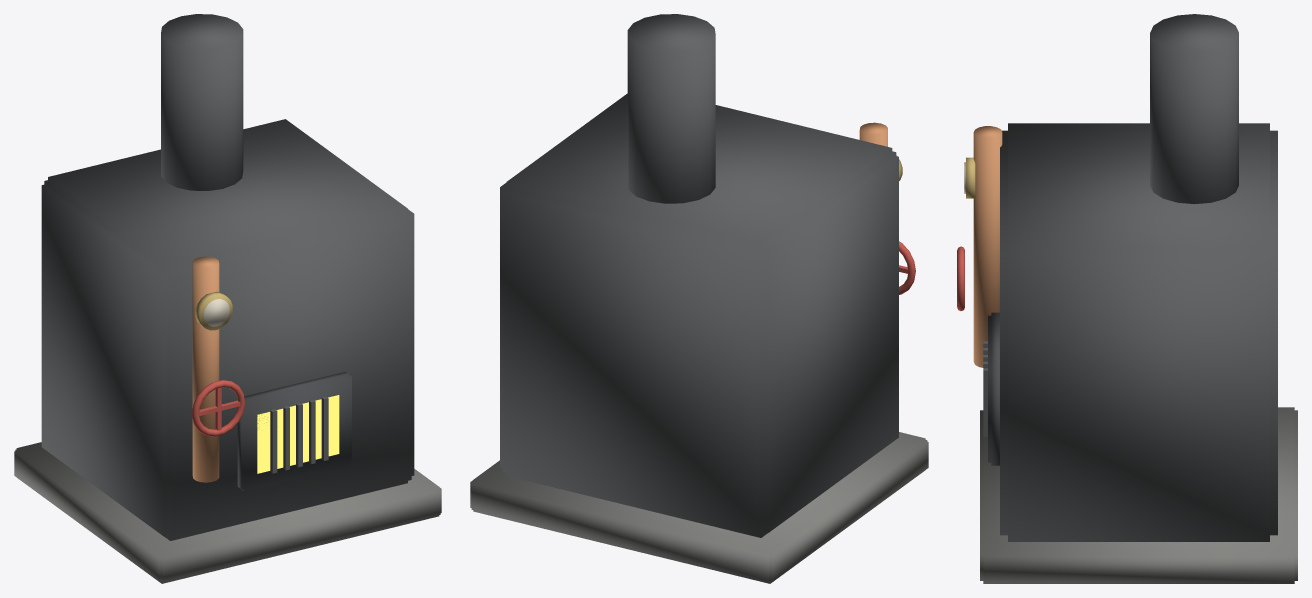
The model's file is boiler_furnace.glb.
The picture shows the model from 3 angles, left to right: view 1: azimuth 30°, elevation 25°; view 2: azimuth 150°, elevation 25°; view 3: azimuth 270°, elevation 25°; orthographic projection. The views are drawn at different scales.
Parts seen in each view (by area): view 1: BoilerBody, Plinth, FluePipe, FireDoorFrame, SteamPipe, EmberGrate, RedValveWheel, GaugeDial, GaugeFace; view 2: BoilerBody, Plinth, FluePipe; view 3: BoilerBody, Plinth, FluePipe, SteamPipe, FireDoorFrame, RedValveWheel.
Boxes of the visible parts, <box> form: BoilerBody: <box>41,119,414,540</box>; Plinth: <box>14,442,441,583</box>; FluePipe: <box>161,14,243,190</box>; FireDoorFrame: <box>237,372,351,491</box>; SteamPipe: <box>192,256,219,482</box>; EmberGrate: <box>257,395,339,473</box>; RedValveWheel: <box>192,380,245,436</box>; GaugeDial: <box>195,291,232,330</box>; GaugeFace: <box>203,299,229,326</box>; BoilerBody: <box>500,93,898,537</box>; Plinth: <box>470,432,928,583</box>; FluePipe: <box>627,14,715,203</box>; BoilerBody: <box>1000,123,1277,541</box>; Plinth: <box>980,407,1297,583</box>; FluePipe: <box>1150,14,1238,204</box>; SteamPipe: <box>973,126,1002,367</box>; FireDoorFrame: <box>988,312,999,465</box>; RedValveWheel: <box>957,246,964,310</box>.
Bounding box in the file's own units: 2.2 × 3.33 × 2.15.
